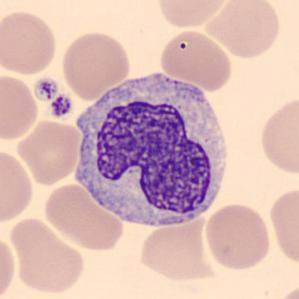Monocyte: (67, 63, 238, 236)
Platelets: (32, 75, 60, 102), (49, 94, 73, 119)
RBC: (7, 215, 88, 297), (42, 181, 125, 252), (137, 215, 216, 283), (58, 28, 132, 100), (202, 201, 272, 272), (157, 28, 234, 91), (203, 0, 283, 60), (15, 118, 84, 186), (0, 7, 59, 76), (256, 94, 299, 176), (0, 71, 41, 142), (266, 184, 299, 268), (0, 147, 36, 224), (154, 0, 230, 30), (0, 234, 18, 298), (275, 282, 298, 299)
